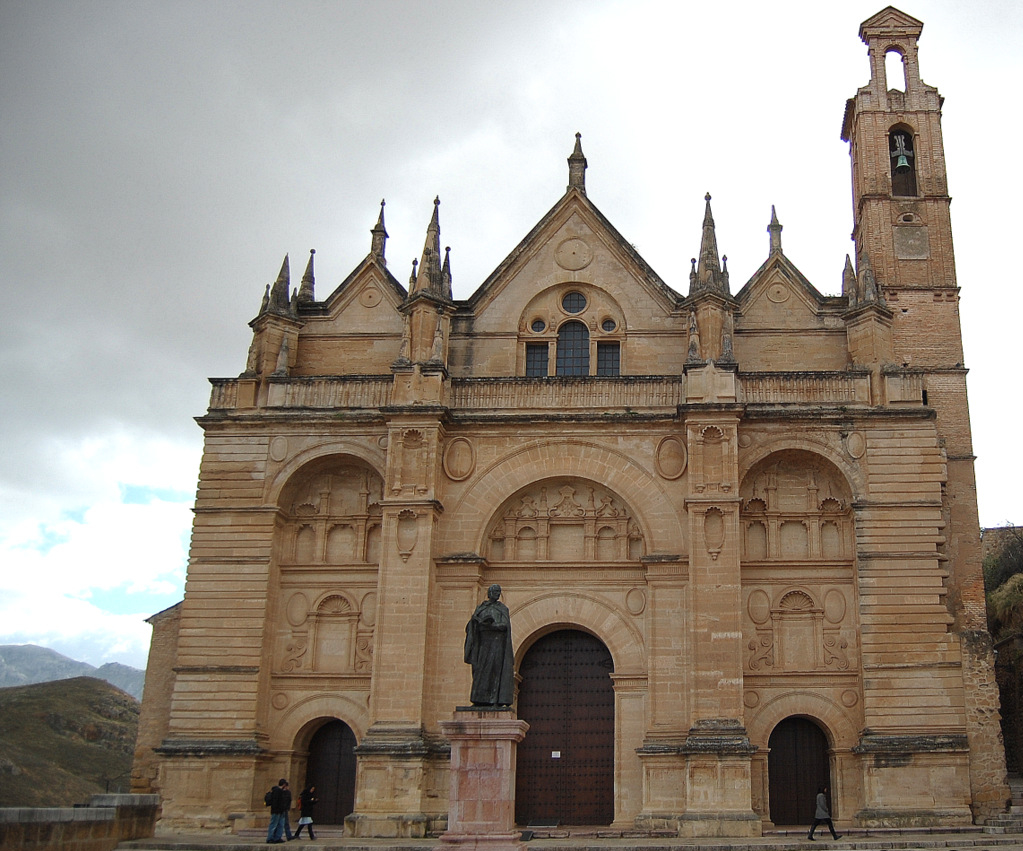arco-medio-punto: (470, 469, 659, 569), (736, 443, 862, 514), (268, 448, 386, 517), (510, 619, 622, 690), (285, 712, 365, 760), (763, 711, 841, 760)
fronton: (855, 3, 926, 33)
ojo-de-buey: (558, 285, 590, 315)
serliana: (519, 315, 623, 379)
